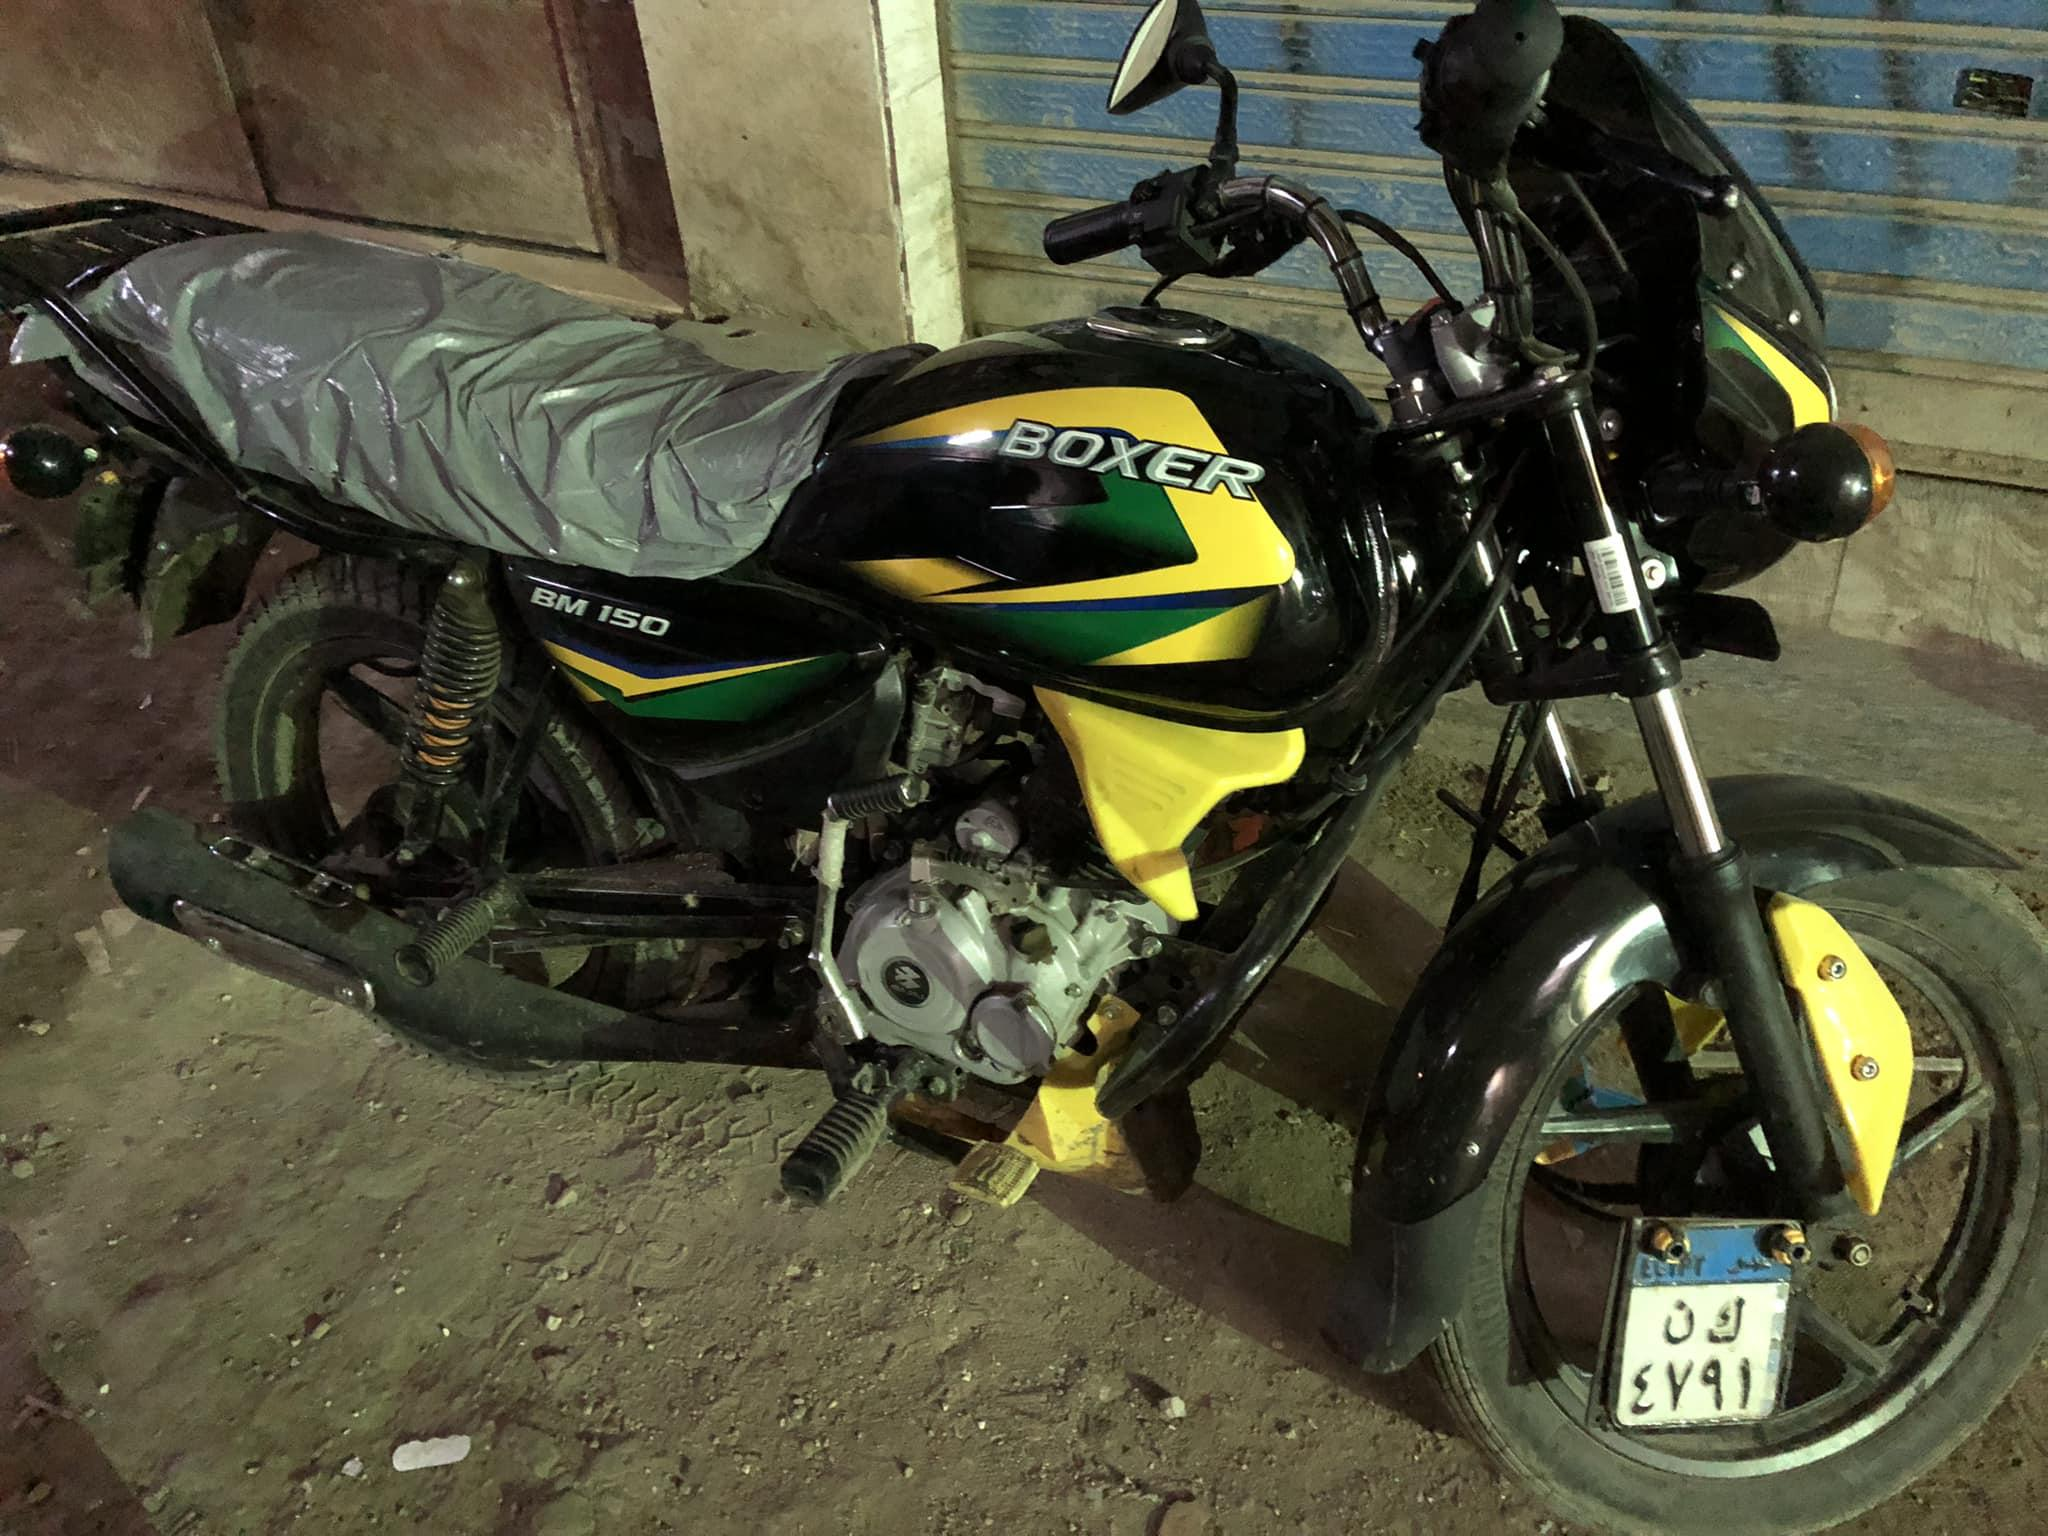License Plate: (1613, 1220, 1817, 1427)
